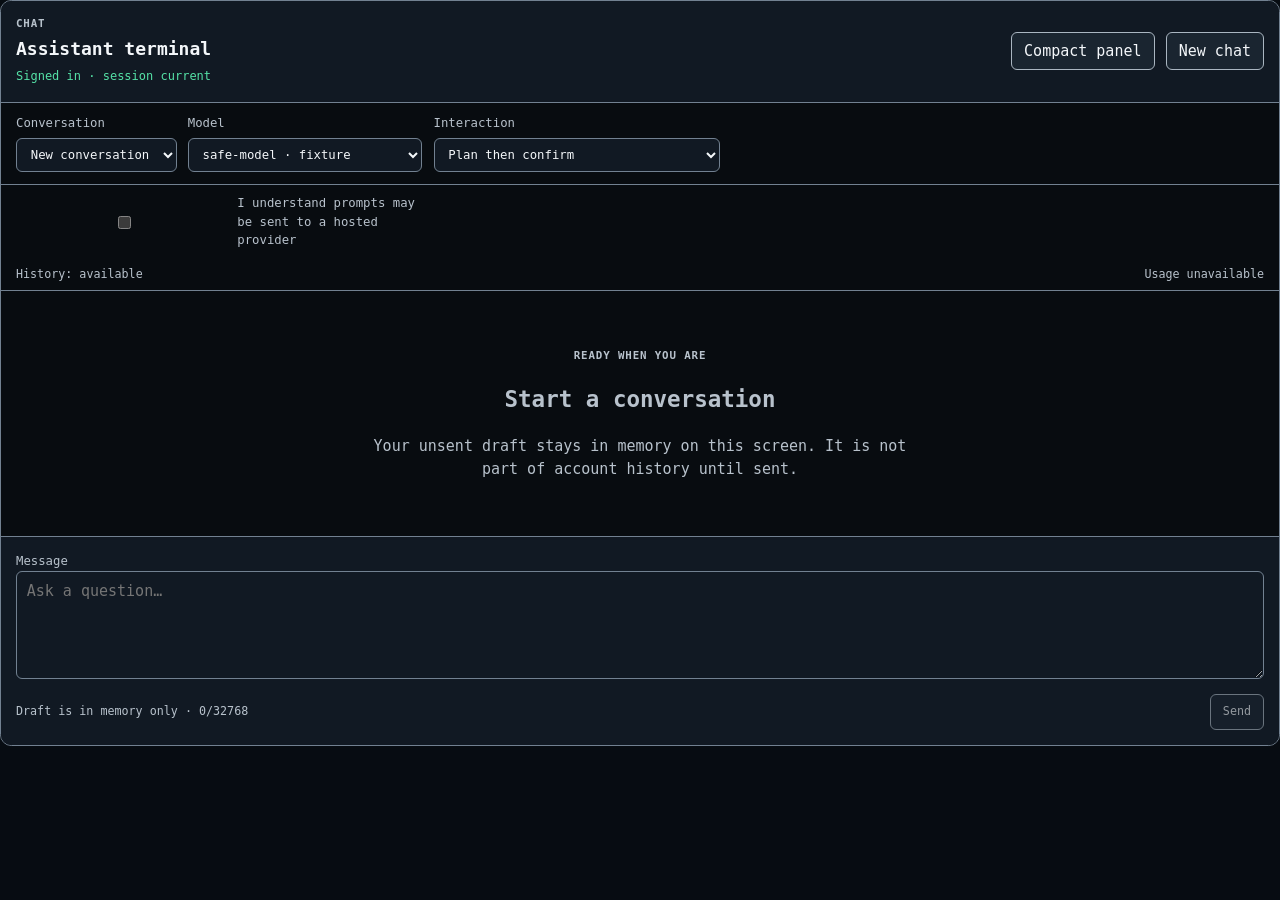
Test: chat terminal › renders streamed output and says cost is unavailable when no price is supplied
Type "What is the status?" into the text box labelled "Message" at (640, 625), box left=16, top=571, right=1264, bottom=679
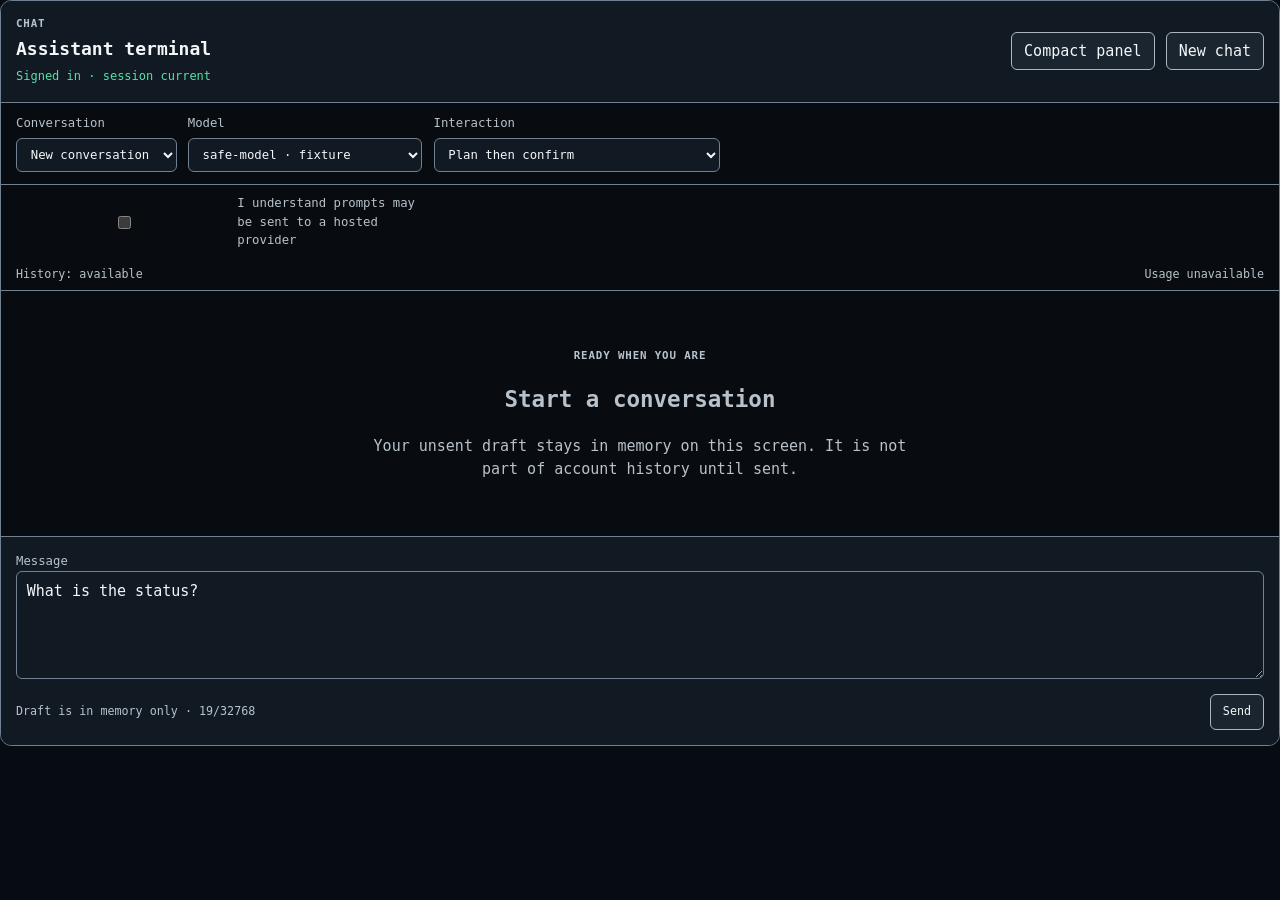
Click the button "Send" at (1237, 712), box left=1210, top=694, right=1264, bottom=730
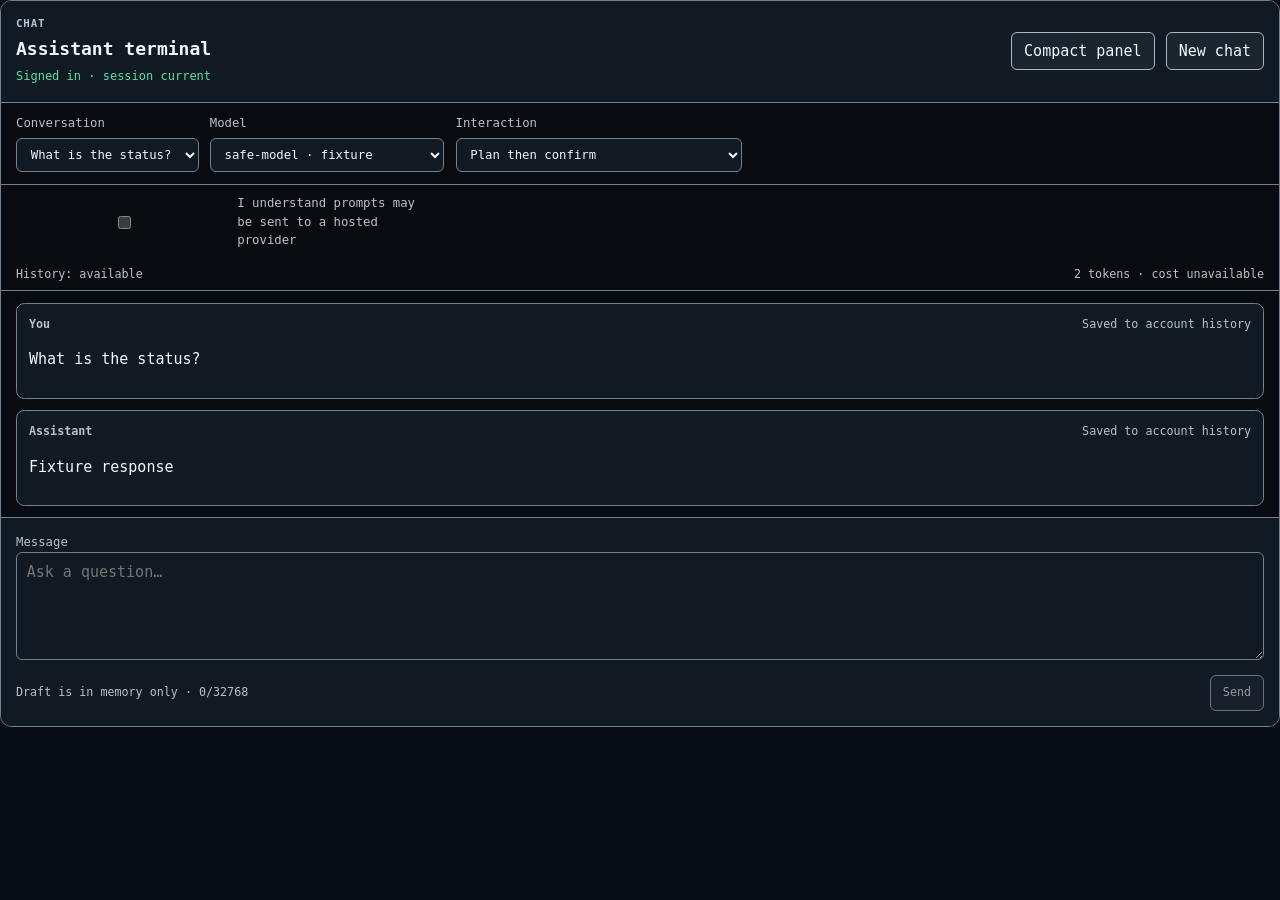
Result: the text "Fixture response" is shown at left=29, top=458, right=174, bottom=476
Result: the text "2 tokens · cost unavailable" is shown at left=1074, top=266, right=1264, bottom=284
Result: the text "Saved to account history" is shown 2 times at left=1082, top=316, right=1251, bottom=333; left=1082, top=423, right=1251, bottom=440
